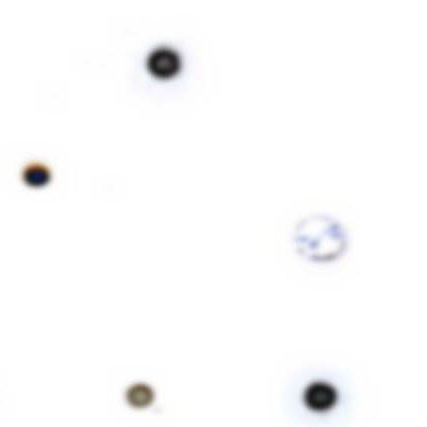abnormal: (277, 198, 356, 273)
cancer: (282, 360, 359, 423), (130, 37, 205, 92)
normal: (113, 364, 170, 421), (13, 149, 69, 198)
